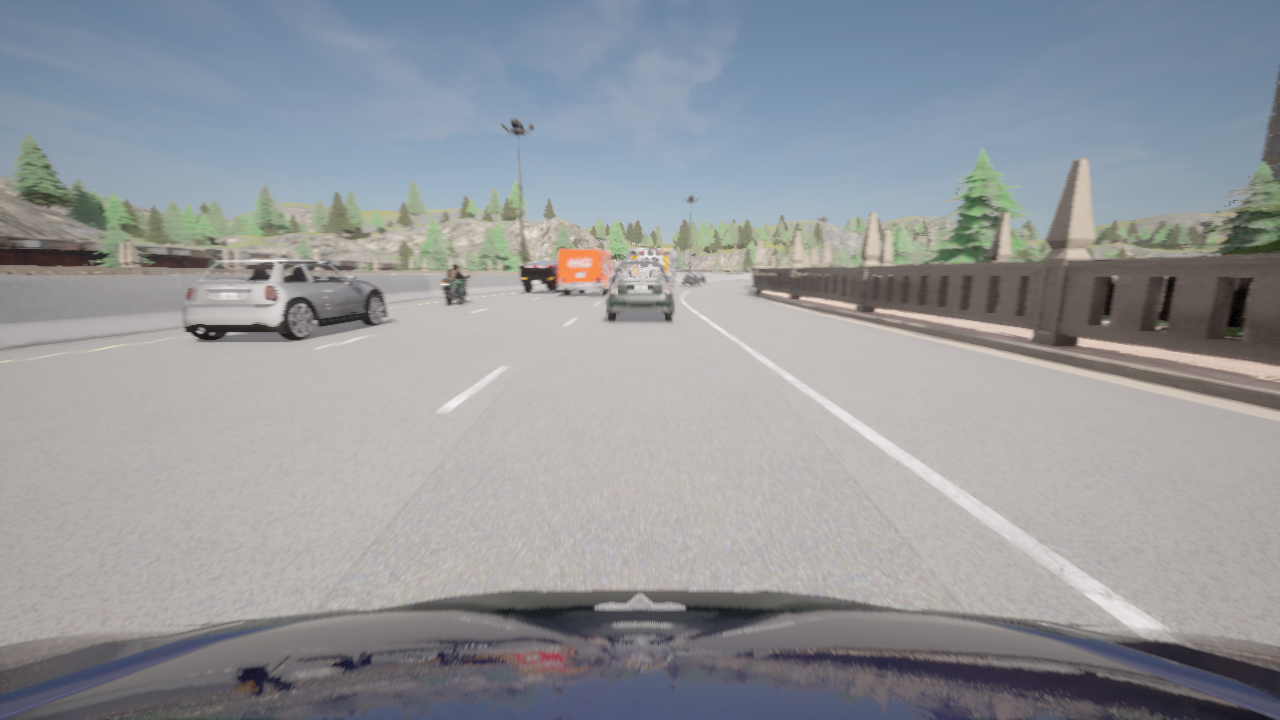cyclist: (0, 588, 1279, 719), (182, 259, 386, 340), (606, 260, 673, 321), (558, 248, 618, 295), (628, 248, 678, 290), (518, 259, 577, 292), (441, 275, 469, 304), (682, 269, 706, 285)
